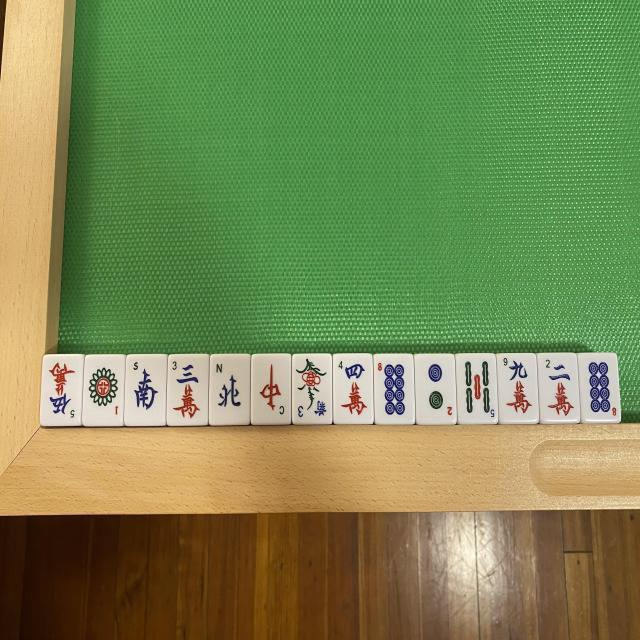bf3: (296, 356, 328, 422)
hdr: (254, 358, 292, 426)
hwn: (209, 354, 249, 424)
hws: (126, 356, 166, 427)
sb5: (461, 354, 498, 422)
sc2: (540, 354, 579, 422)
sc3: (170, 354, 210, 424)
sc4: (332, 354, 373, 424)
sc5: (44, 353, 84, 424)
sc9: (501, 357, 542, 426)
sd1: (86, 356, 125, 427)
sd2: (416, 356, 456, 424)
sd8: (373, 354, 412, 422), (579, 353, 617, 421)
